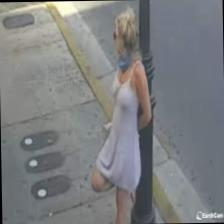person: (88, 7, 152, 224)
